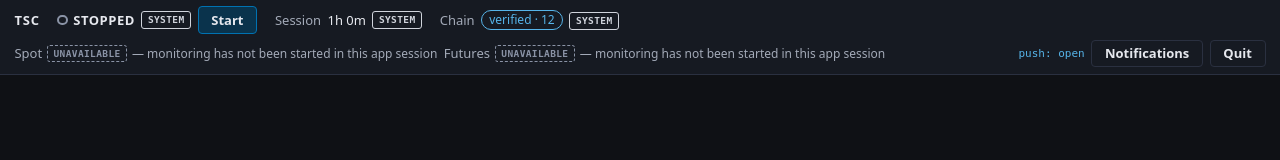
Test: StatusBar › sends the token header on mutations and reflects the new state
Click the button "Start" at {"x": 227, "y": 20}, box x1=198 y1=6 x2=257 y2=34
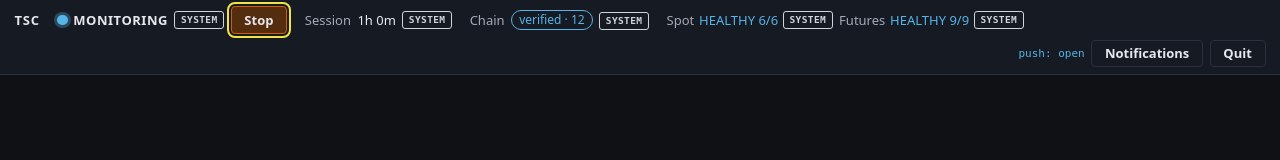
Result: the element with test id "monitoring-state" reads "MONITORING" at x1=73 y1=11 x2=168 y2=29
